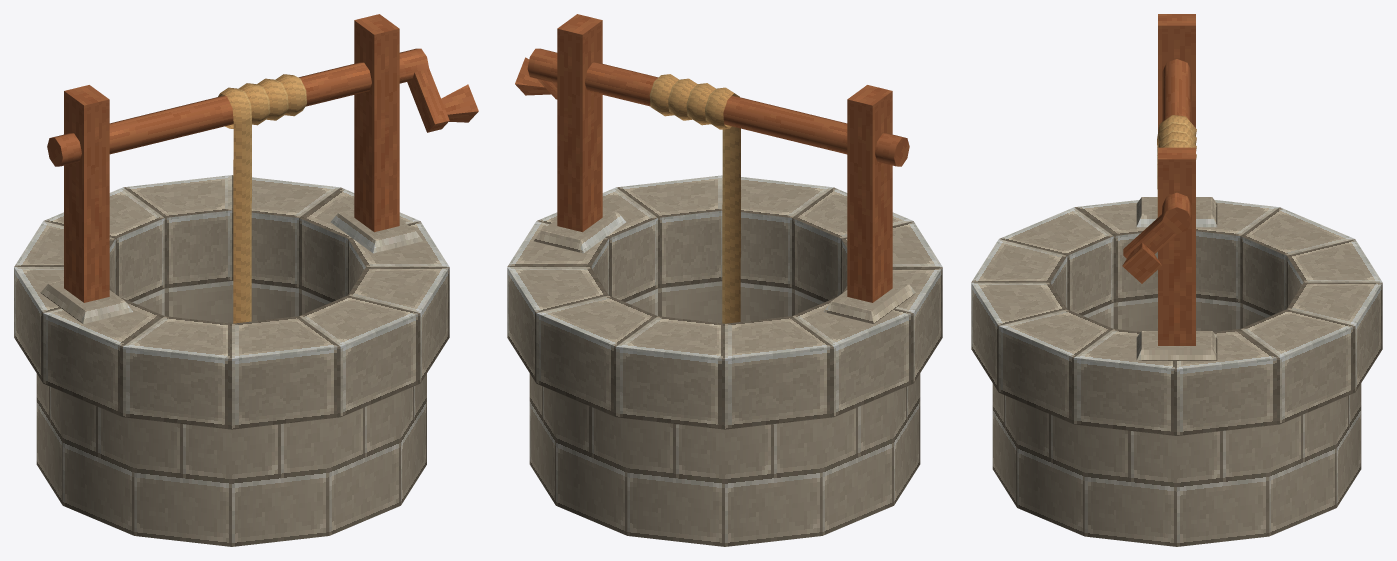
Rendered from Welll 1.fbx.
3 renders of one model, left to right at view 1: azimuth 30°, elevation 25°; view 2: azimuth 150°, elevation 25°; view 3: azimuth 270°, elevation 25°, orthographic. The views are drawn at different scales.
Parts seen in each view (by area): view 1: well; view 2: well; view 3: well.
Boxes of the visible parts, <box> form: well: <box>14,14,478,546</box>; well: <box>507,14,942,546</box>; well: <box>971,14,1382,546</box>.
Bounding box in the file's own units: 1.08 × 1.02 × 1.
